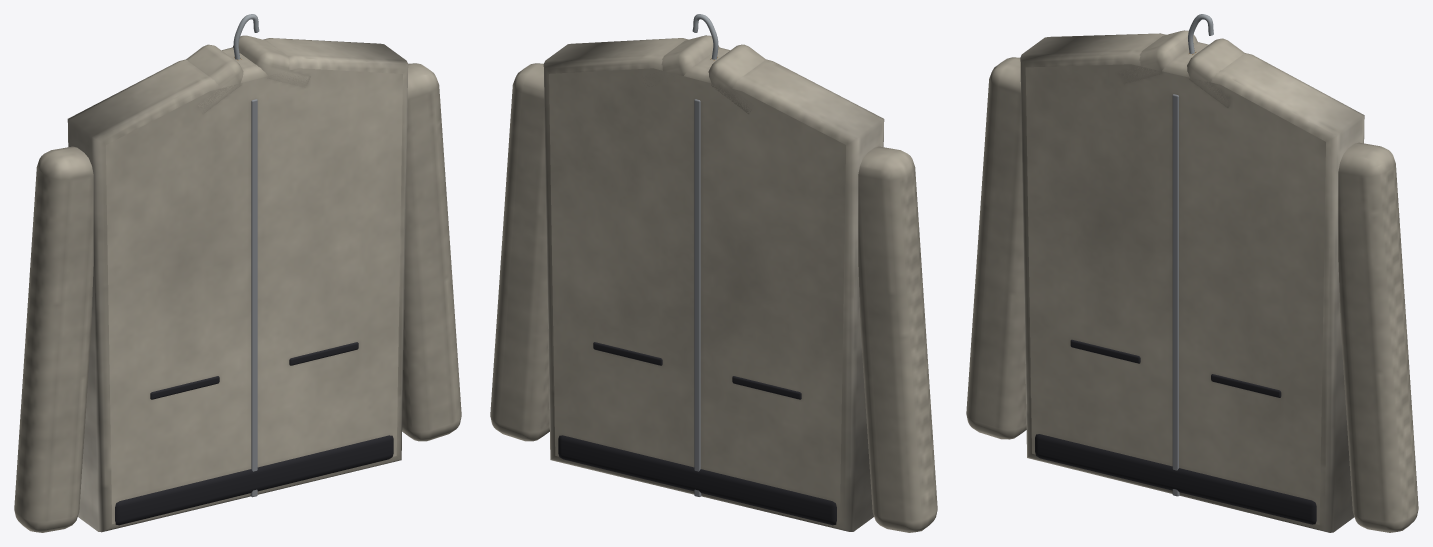
File: ciuch_kurtka.glb
3 views of the same model, side by side, from view 1: azimuth 30°, elevation 25°; view 2: azimuth 150°, elevation 25°; view 3: azimuth 330°, elevation 25° (orthographic).
Visible parts, largest first — view 1: TintTkanina, Wieszak; view 2: TintTkanina, Wieszak; view 3: TintTkanina, Wieszak.
Boxes of the visible parts, x1=… form: TintTkanina: x1=14, y1=35, x2=461, y2=532; Wieszak: x1=115, y1=14, x2=393, y2=525; TintTkanina: x1=490, y1=35, x2=937, y2=532; Wieszak: x1=558, y1=14, x2=836, y2=525; TintTkanina: x1=966, y1=30, x2=1418, y2=532; Wieszak: x1=1035, y1=14, x2=1316, y2=524.
Size of the model in its own units: 0.6896 by 0.7111 by 0.096.
Materials: 5 (1 with a texture image).
